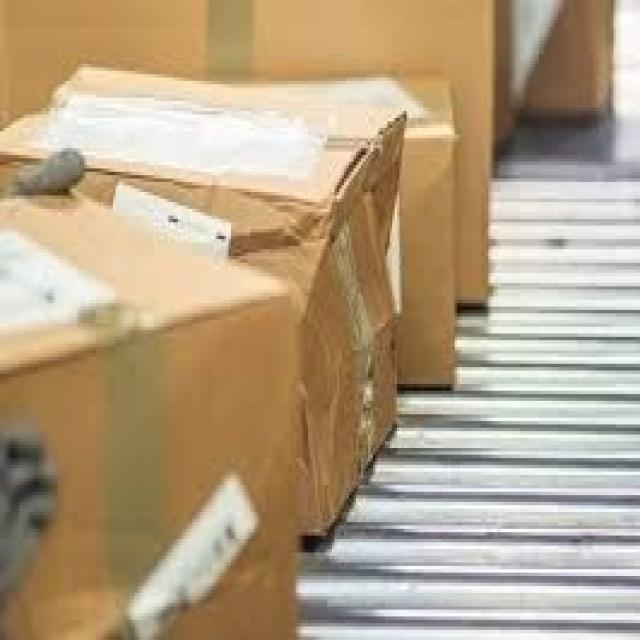Kardus kondisi bagus: (1, 185, 303, 640)
Kardus kondisi rusak: (3, 106, 410, 543)
